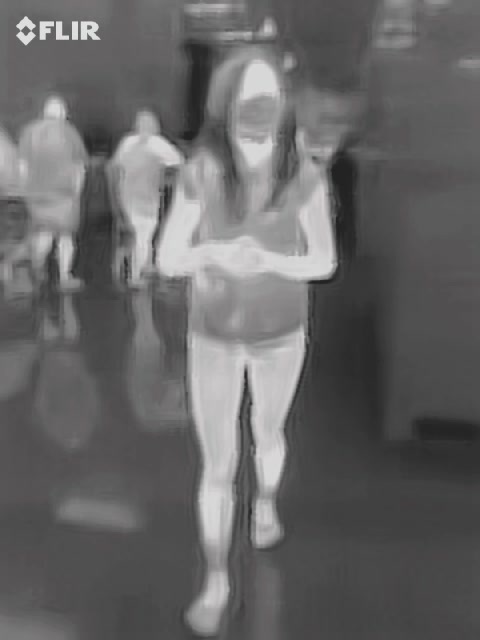head: (214, 50, 289, 148)
